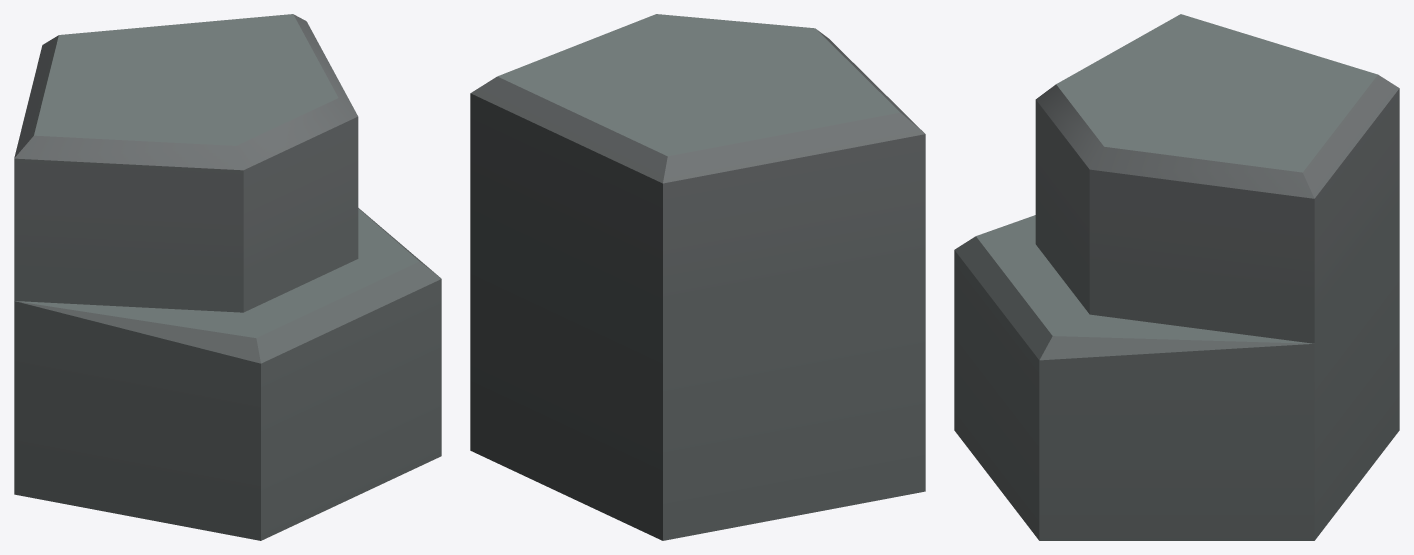
The model's file is rock_1_a-Bs0Tu4Lv.glb.
The picture shows the model from 3 angles, left to right: view 1: azimuth 30°, elevation 25°; view 2: azimuth 150°, elevation 25°; view 3: azimuth 270°, elevation 25°; orthographic projection. The views are drawn at different scales.
Parts seen in each view (by area): view 1: Rock_1_A_Color1; view 2: Rock_1_A_Color1; view 3: Rock_1_A_Color1.
Boxes of the visible parts, x1=… form: Rock_1_A_Color1: x1=14, y1=14, x2=441, y2=540; Rock_1_A_Color1: x1=470, y1=14, x2=925, y2=540; Rock_1_A_Color1: x1=954, y1=14, x2=1399, y2=540.
Size of the model in its own units: 1.39 by 1.3 by 1.46.
Materials: 1 (1 with a texture image).
